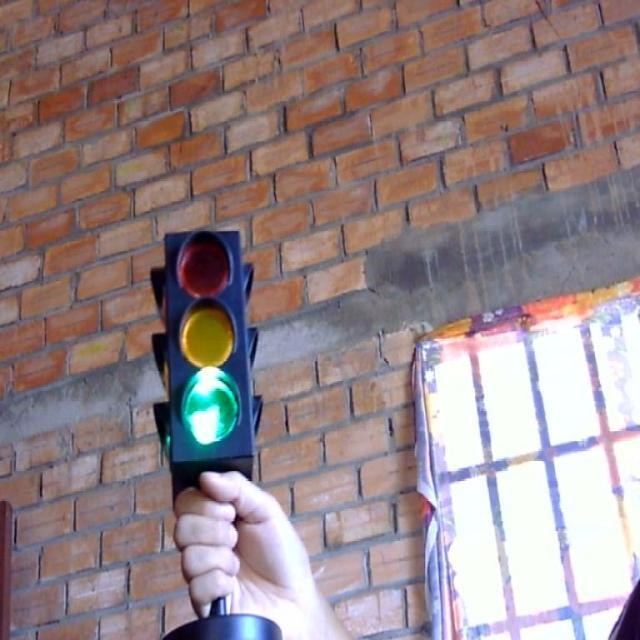green light: (172, 363, 243, 451)
